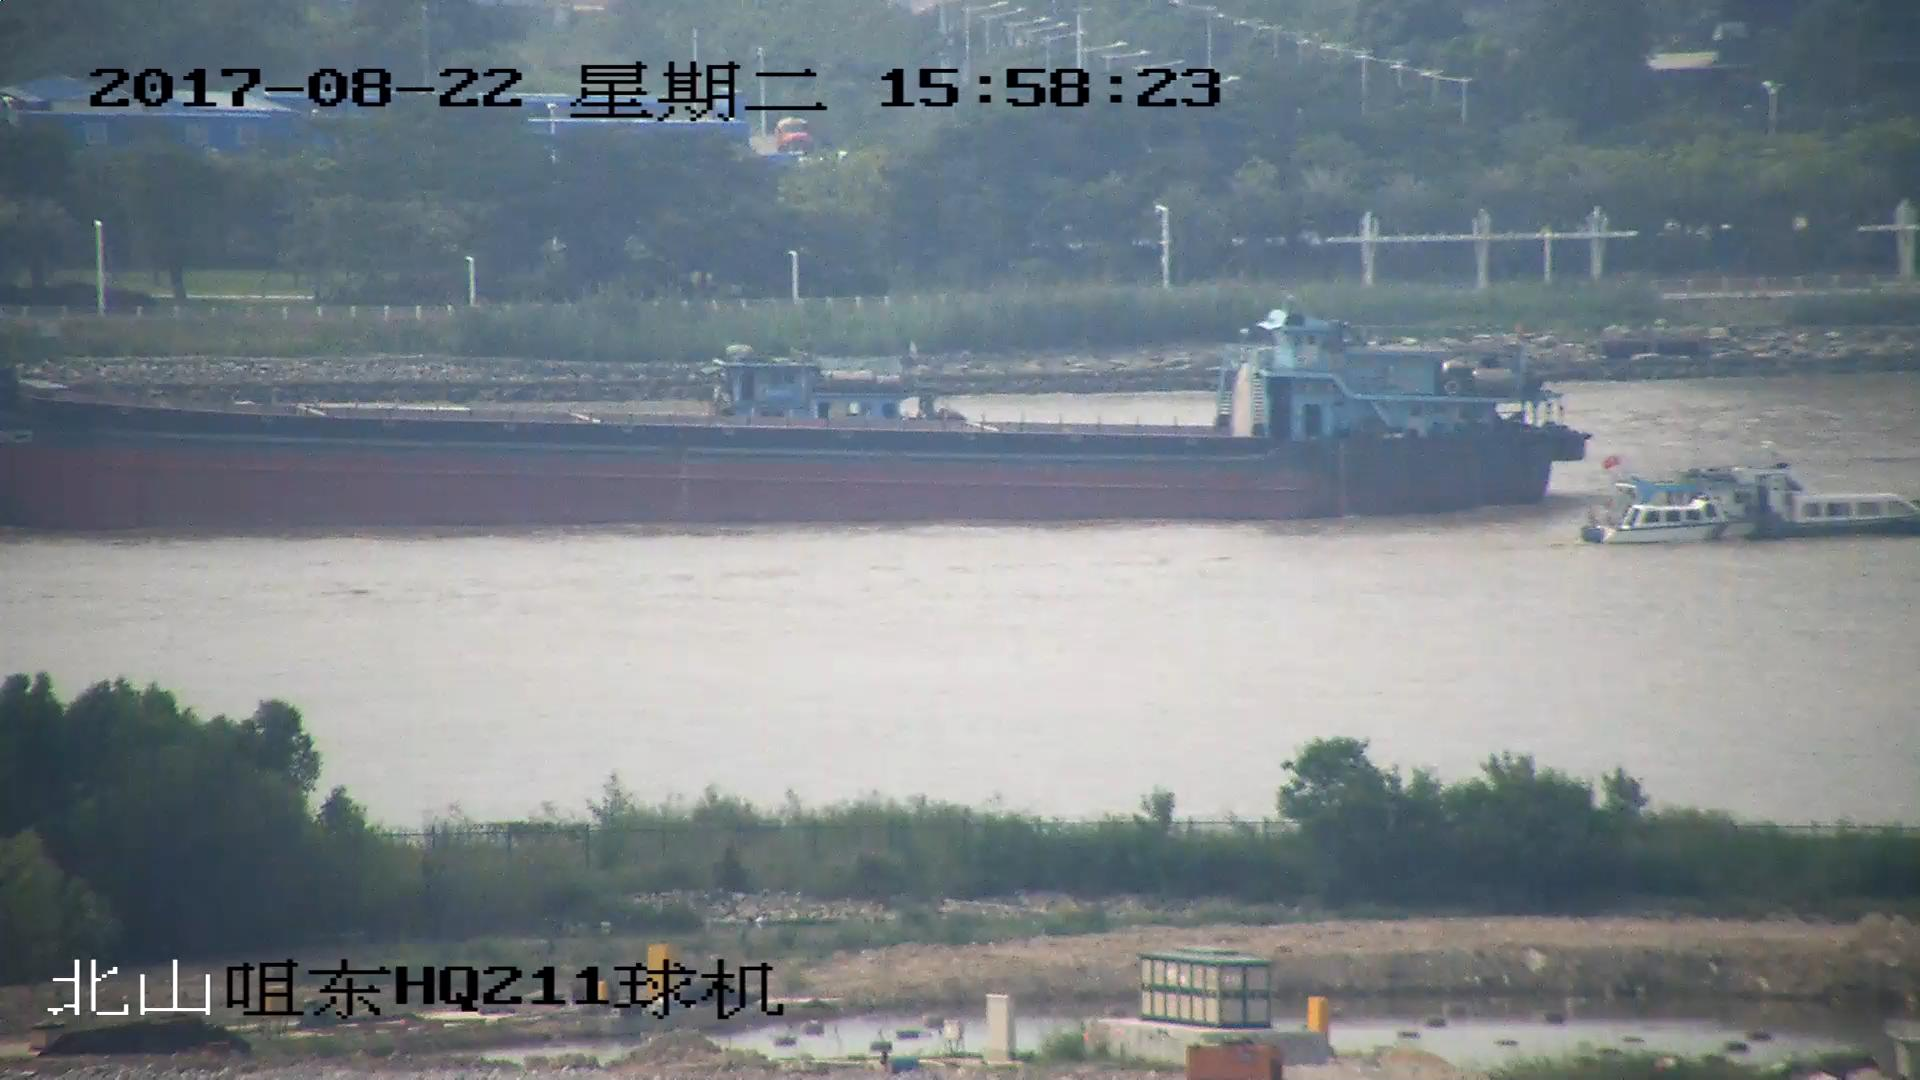bulk cargo carrier: (1, 300, 1597, 520)
fishing boat: (1576, 456, 1920, 543)
